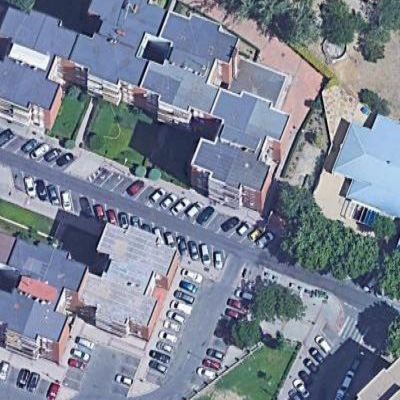tree: (250, 280, 310, 325), (288, 212, 333, 268), (338, 224, 381, 282), (263, 1, 314, 47), (321, 6, 358, 52), (363, 15, 395, 64), (228, 316, 267, 351), (278, 183, 311, 221), (383, 249, 400, 295)
